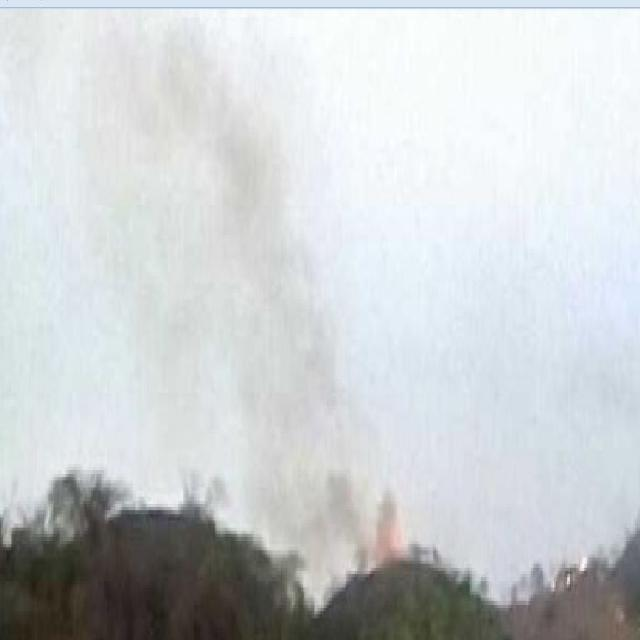Fire: (374, 471, 409, 563)
Smoke: (220, 103, 371, 581), (238, 444, 315, 550), (336, 448, 374, 574)
